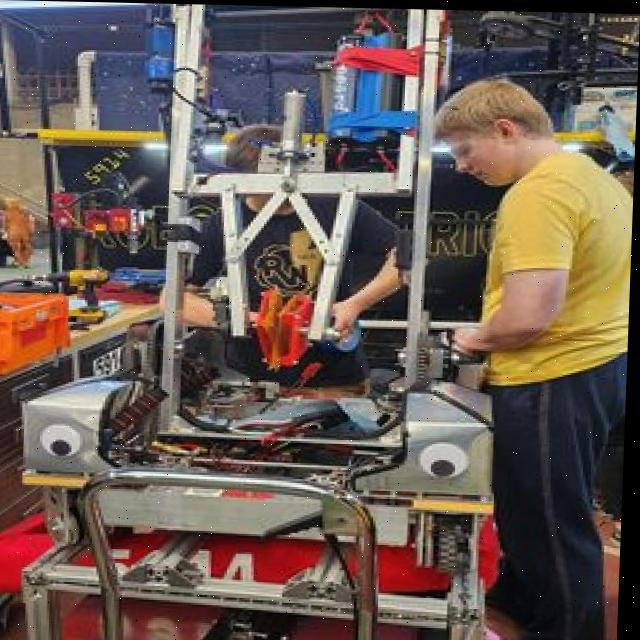robot: (0, 0, 586, 552)
